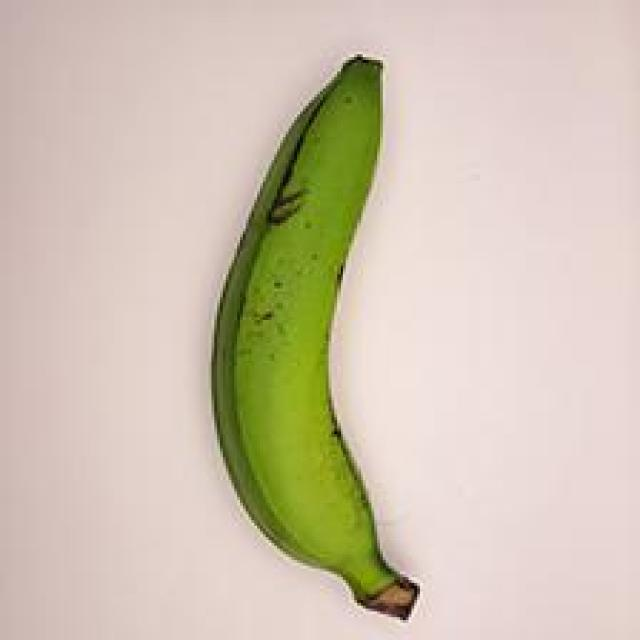Raw: (198, 37, 460, 618)
